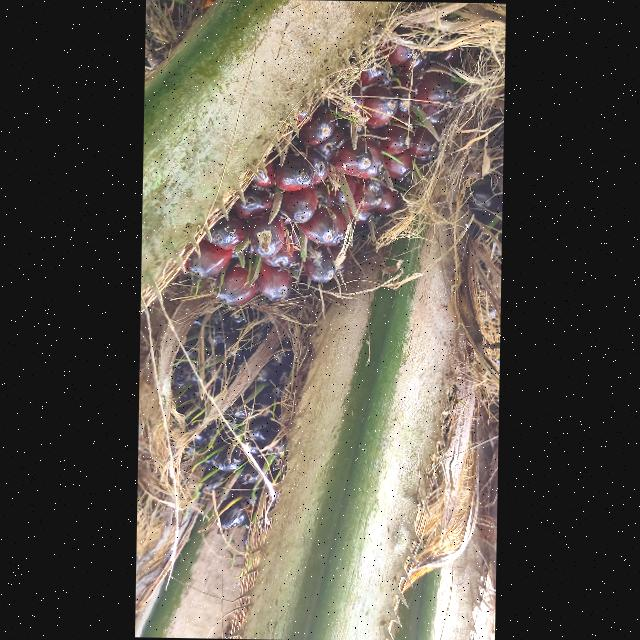Ripe: (174, 26, 468, 304), (169, 306, 296, 533)
